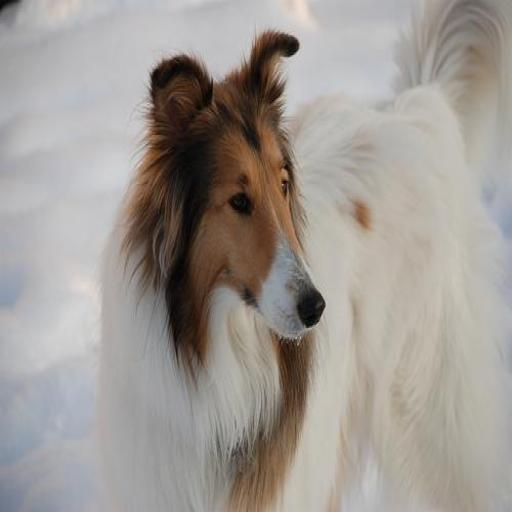dog_face: (148, 28, 332, 337)
